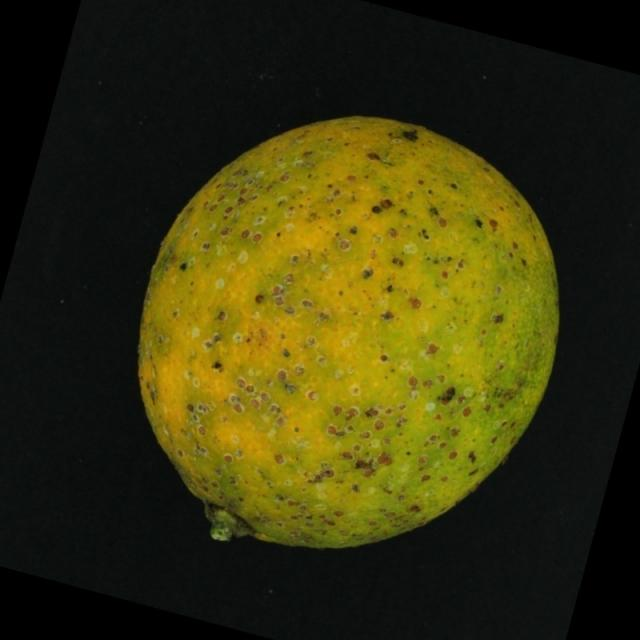grenning: (108, 100, 581, 567)
